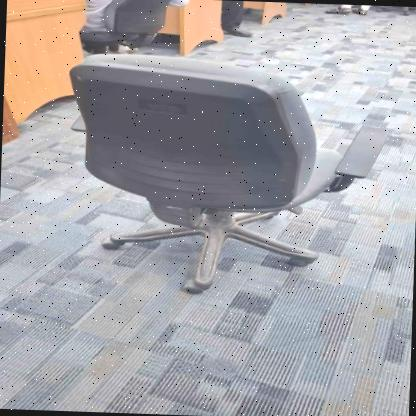chair: (51, 45, 400, 311)
